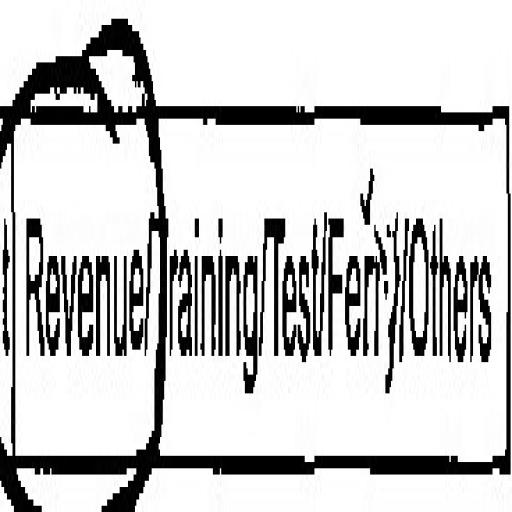check: (11, 0, 148, 512)
